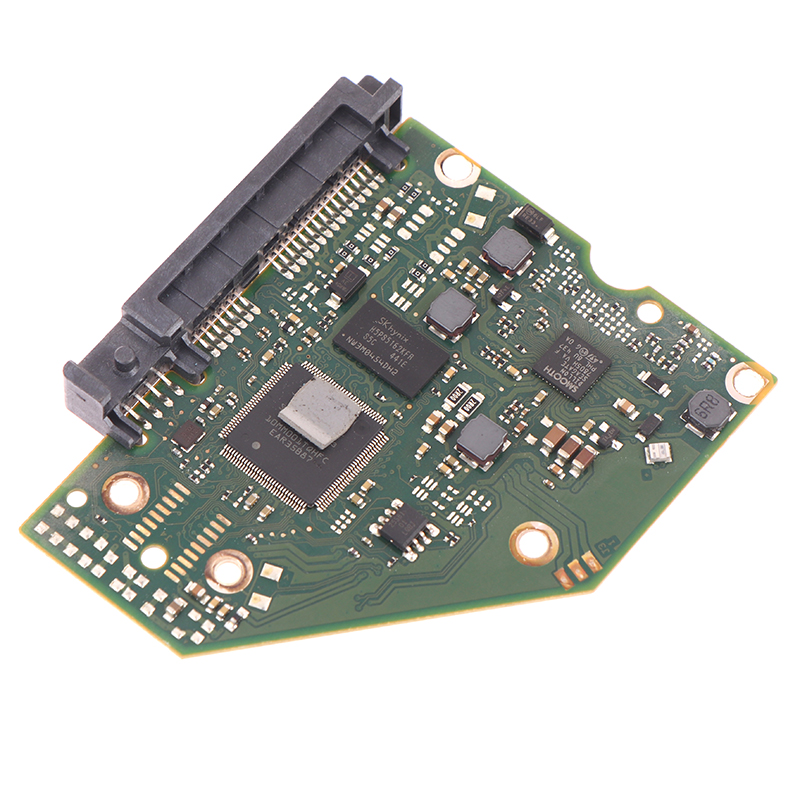Induktor: (454, 413, 509, 468), (426, 286, 478, 339), (482, 225, 533, 277), (684, 386, 732, 438)
